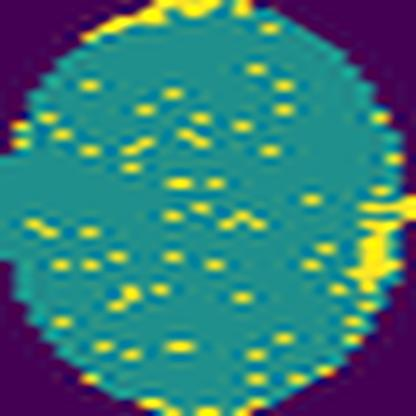Loc: (346, 193, 415, 299)
